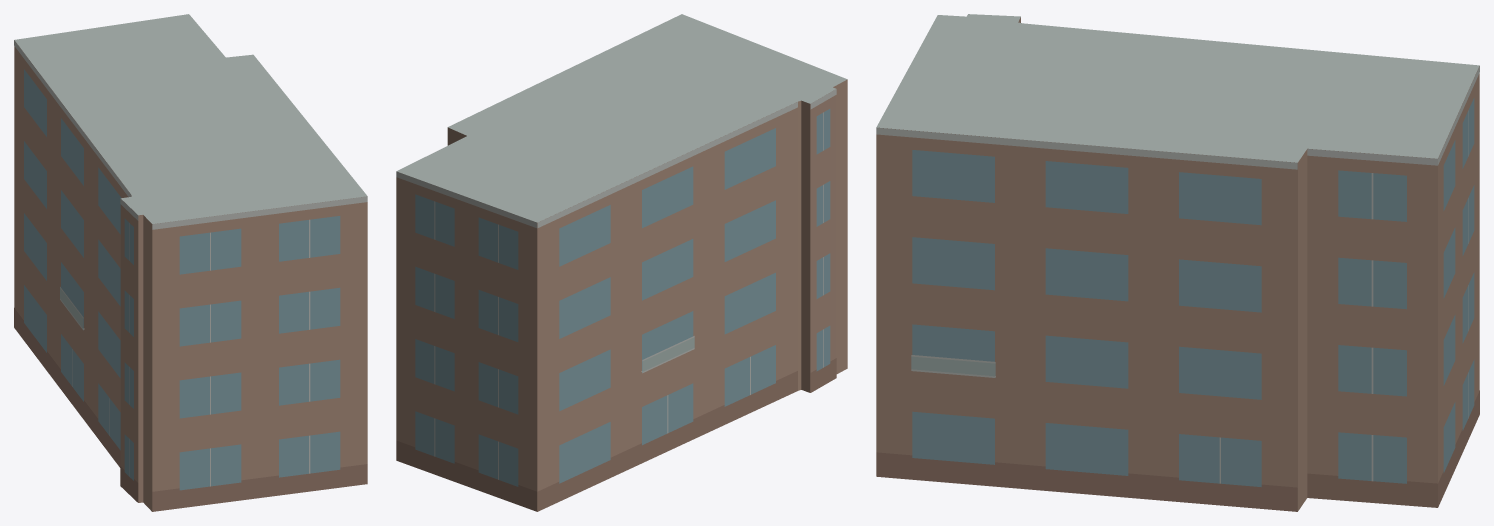
The model's file is survey-upis-32972121.glb.
3 renders of one model, left to right at view 1: azimuth 30°, elevation 25°; view 2: azimuth 150°, elevation 25°; view 3: azimuth 270°, elevation 25°, orthographic. The views are drawn at different scales.
Parts seen in each view (by area): view 1: survey-upis-32972121.tmp; view 2: survey-upis-32972121.tmp; view 3: survey-upis-32972121.tmp.
Boxes of the visible parts, x1,y1,x2,y2 form: survey-upis-32972121.tmp: [14, 14, 367, 511]; survey-upis-32972121.tmp: [396, 14, 847, 511]; survey-upis-32972121.tmp: [876, 14, 1479, 511].
Bounding box in the file's own units: 11.15 × 12.2 × 19.12.
